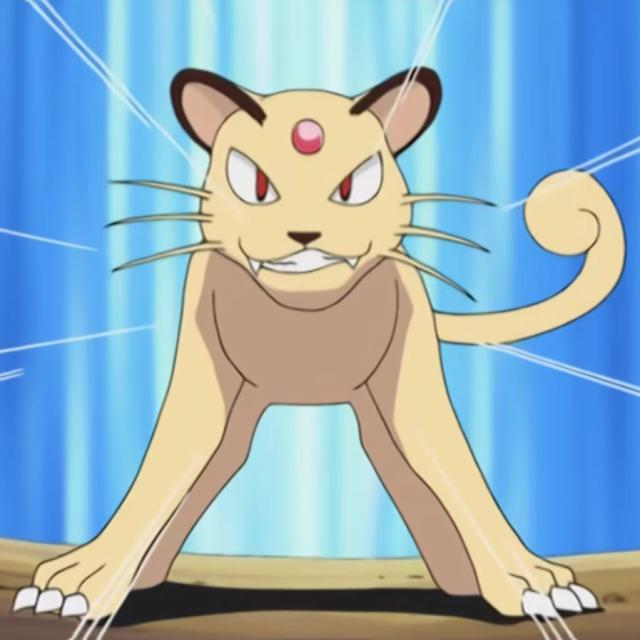Persian: (140, 62, 471, 600)
